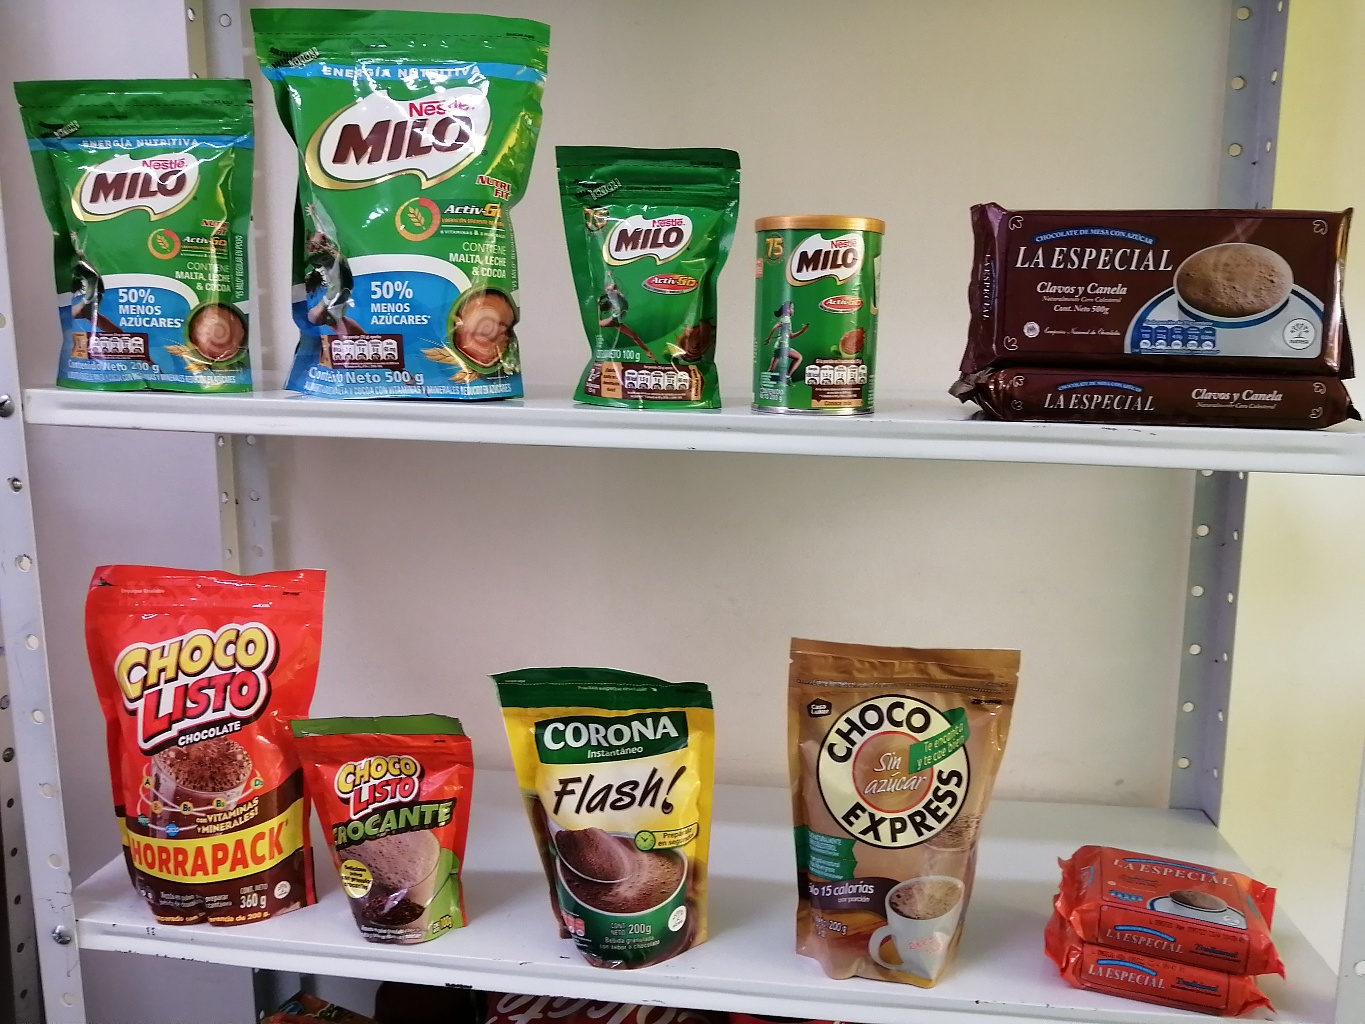COL0170102DYP10000: (289, 701, 483, 963)
COL0170103DYP36000: (74, 552, 336, 938)
COL0170203DYP10000: (549, 136, 748, 418)
COL0170203LAT20000: (750, 208, 890, 423)
COL0170205DYP20000: (11, 66, 264, 396)
COL0170205DYP50000: (251, 5, 565, 407)
